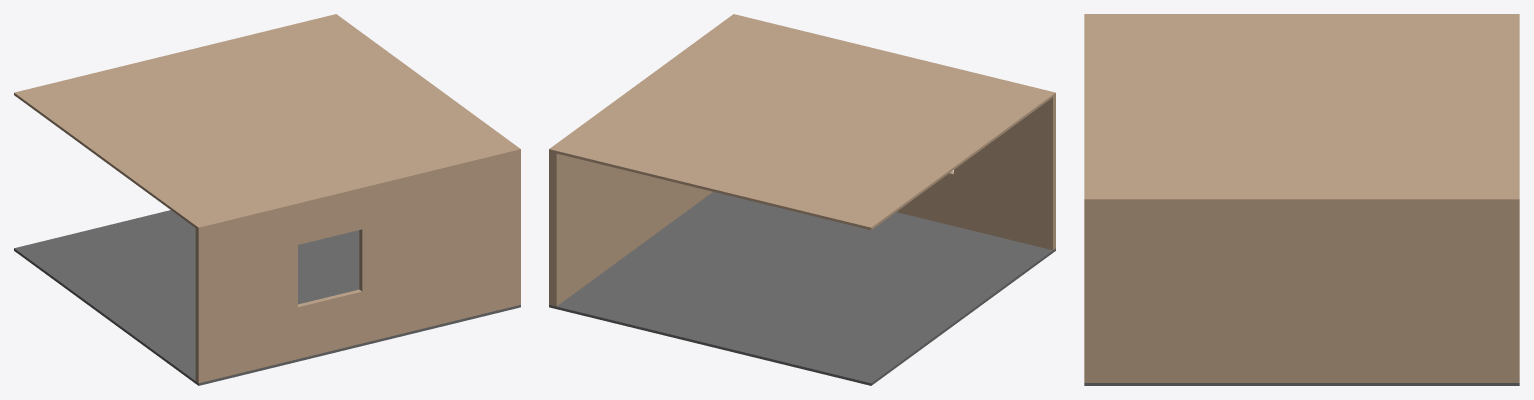
The model's file is Room03_gox.gltf.
The picture shows the model from 3 angles, left to right: view 1: azimuth 30°, elevation 25°; view 2: azimuth 150°, elevation 25°; view 3: azimuth 270°, elevation 25°; orthographic projection. The views are drawn at different scales.
Parts seen in each view (by area): view 1: roof, wall2, floor, Wall4-left; view 2: roof, floor, Wall4-left, wall2; view 3: Wall4-left, roof, wall2, floor.
Boxes of the visible parts, x1,y1,x2,y2 form: roof: (14,14,520,229); wall2: (195,147,520,383); floor: (14,210,520,385); Wall4-left: (329,14,517,148); roof: (549,14,1055,230); floor: (549,192,1055,385); Wall4-left: (549,16,737,306); wall2: (731,14,1055,250); Wall4-left: (1091,195,1519,382); roof: (1084,14,1519,202); wall2: (1084,14,1090,382); floor: (1084,383,1519,385).
Size of the model in its own units: 130 by 61 by 129.
